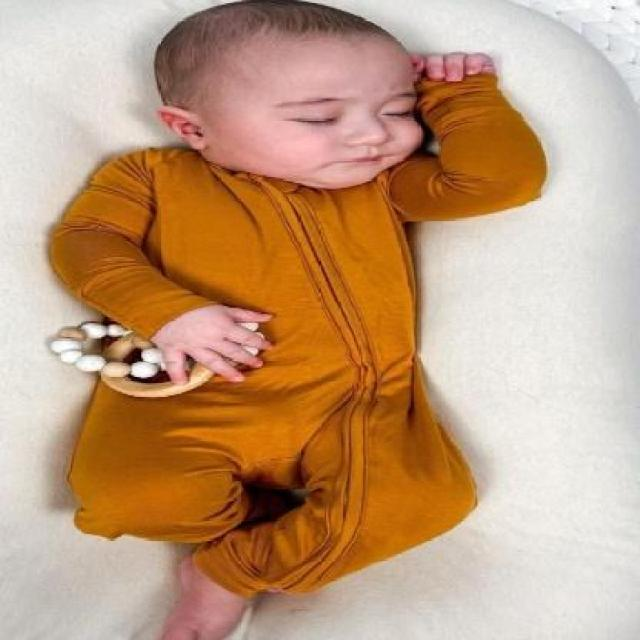baby: (44, 0, 546, 634)
